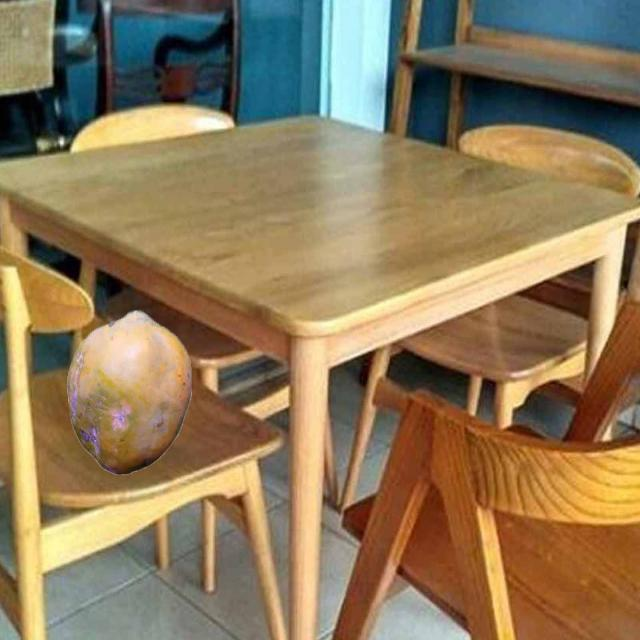Pepaya rippen: (52, 302, 200, 480)
